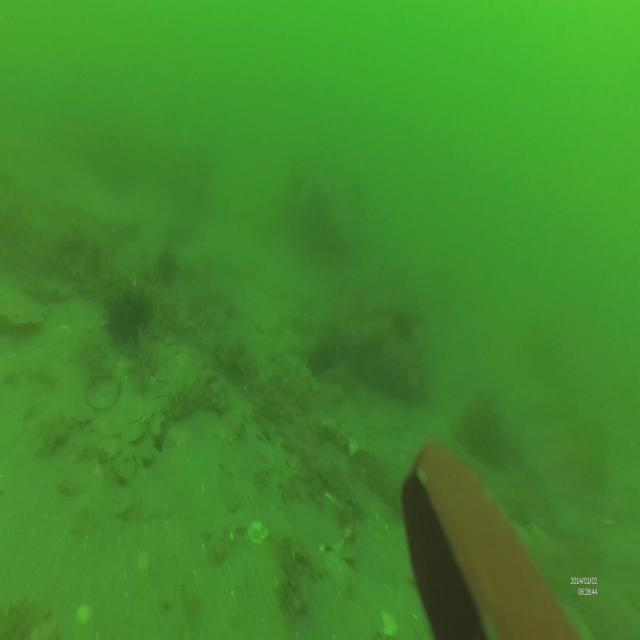echinus: (104, 287, 154, 351)
